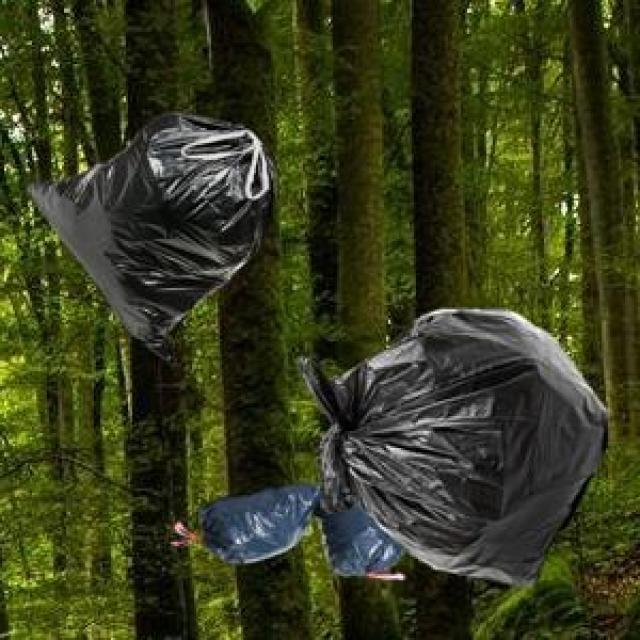Trashbag: (295, 301, 618, 596), (24, 105, 277, 366), (190, 480, 322, 563)
